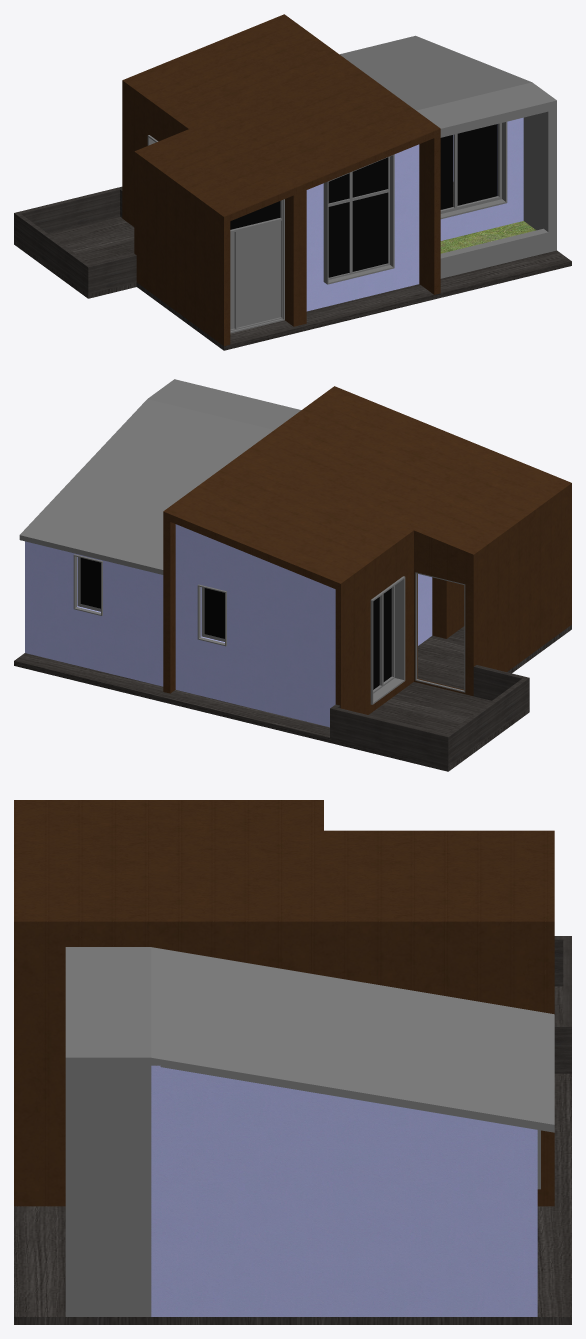
The model's file is compact-cottage.glb.
The picture shows the model from 3 angles, top to bottom: view 1: azimuth 30°, elevation 25°; view 2: azimuth 150°, elevation 25°; view 3: azimuth 270°, elevation 25°; orthographic projection. The views are drawn at different scales.
Parts seen in each view (by area): view 1: mesh-a88cee43-ae11-4195-a7ab-6f2effd062dc, mesh-a2f4b03a-da8a-4cc0-90b9-3a7af640df42, mesh-da2dd45d-b5d4-4797-8a84-05d405abdf26, mesh-e0ae70a6-3800-4f63-8826-9dc5ead1a247, mesh-a6ddecad-3b71-46ee-b986-782673806ffd, mesh-db172851-b639-4d62-9e6e-33cf965816bf, mesh-aa5ae403-ff2c-4a4a-a6f0-7d4ccd390c9e, mesh-af627654-f7d0-48ef-bea3-2fbd8e2c0987, mesh-f826d6dd-c4e0-4fa3-a675-29e19c09bd27, mesh-a27fdb92-1d0b-4dce-b2a7-f36a24c7652c, mesh-a79623d4-b6b3-498b-adfe-efa4b97c99d6, mesh-cb395510-4ca3-496f-8c8e-baf3622da2f6 (+11 smaller); view 2: mesh-a88cee43-ae11-4195-a7ab-6f2effd062dc, mesh-da2dd45d-b5d4-4797-8a84-05d405abdf26, mesh-a6ddecad-3b71-46ee-b986-782673806ffd, mesh-e0ae70a6-3800-4f63-8826-9dc5ead1a247, mesh-db172851-b639-4d62-9e6e-33cf965816bf, mesh-a2f4b03a-da8a-4cc0-90b9-3a7af640df42, mesh-bd3911de-a54d-42f4-89b2-e509a5595435, mesh-f826d6dd-c4e0-4fa3-a675-29e19c09bd27, mesh-aac72e3a-09f2-491c-9c9f-3d23d9580ecd, mesh-a6439063-9c43-4bc1-9129-d01058167b2d, mesh-aeec4f4b-550a-4e73-b655-54936df18864, mesh-a2a2351b-4932-4f9a-906f-610691e05499 (+2 smaller); view 3: mesh-a88cee43-ae11-4195-a7ab-6f2effd062dc, mesh-da2dd45d-b5d4-4797-8a84-05d405abdf26, mesh-a6ddecad-3b71-46ee-b986-782673806ffd, mesh-a2f4b03a-da8a-4cc0-90b9-3a7af640df42, mesh-e0ae70a6-3800-4f63-8826-9dc5ead1a247, mesh-db172851-b639-4d62-9e6e-33cf965816bf.
Boxes of the visible parts, x1,y1,x2,y2 form: mesh-a88cee43-ae11-4195-a7ab-6f2effd062dc: (122, 14, 440, 346); mesh-a2f4b03a-da8a-4cc0-90b9-3a7af640df42: (416, 82, 556, 278); mesh-da2dd45d-b5d4-4797-8a84-05d405abdf26: (306, 117, 523, 311); mesh-e0ae70a6-3800-4f63-8826-9dc5ead1a247: (14, 182, 571, 350); mesh-a6ddecad-3b71-46ee-b986-782673806ffd: (340, 35, 531, 110); mesh-db172851-b639-4d62-9e6e-33cf965816bf: (14, 186, 136, 294); mesh-aa5ae403-ff2c-4a4a-a6f0-7d4ccd390c9e: (237, 221, 280, 327); mesh-af627654-f7d0-48ef-bea3-2fbd8e2c0987: (457, 124, 497, 205); mesh-f826d6dd-c4e0-4fa3-a675-29e19c09bd27: (285, 190, 306, 326); mesh-a27fdb92-1d0b-4dce-b2a7-f36a24c7652c: (352, 192, 387, 271); mesh-a79623d4-b6b3-498b-adfe-efa4b97c99d6: (328, 202, 349, 277); mesh-cb395510-4ca3-496f-8c8e-baf3622da2f6: (323, 154, 394, 284); mesh-a88cee43-ae11-4195-a7ab-6f2effd062dc: (163, 386, 571, 714); mesh-da2dd45d-b5d4-4797-8a84-05d405abdf26: (25, 524, 432, 727); mesh-a6ddecad-3b71-46ee-b986-782673806ffd: (19, 399, 273, 574); mesh-e0ae70a6-3800-4f63-8826-9dc5ead1a247: (14, 625, 571, 771); mesh-db172851-b639-4d62-9e6e-33cf965816bf: (330, 665, 529, 766); mesh-a2f4b03a-da8a-4cc0-90b9-3a7af640df42: (148, 379, 301, 429); mesh-bd3911de-a54d-42f4-89b2-e509a5595435: (370, 576, 405, 704); mesh-f826d6dd-c4e0-4fa3-a675-29e19c09bd27: (432, 577, 464, 638); mesh-aac72e3a-09f2-491c-9c9f-3d23d9580ecd: (204, 588, 224, 638); mesh-a6439063-9c43-4bc1-9129-d01058167b2d: (80, 558, 100, 608); mesh-aeec4f4b-550a-4e73-b655-54936df18864: (373, 586, 394, 693); mesh-a2a2351b-4932-4f9a-906f-610691e05499: (383, 588, 391, 681); mesh-a88cee43-ae11-4195-a7ab-6f2effd062dc: (14, 800, 554, 1206); mesh-da2dd45d-b5d4-4797-8a84-05d405abdf26: (151, 1065, 537, 1316); mesh-a6ddecad-3b71-46ee-b986-782673806ffd: (151, 947, 554, 1132); mesh-a2f4b03a-da8a-4cc0-90b9-3a7af640df42: (65, 947, 151, 1316); mesh-e0ae70a6-3800-4f63-8826-9dc5ead1a247: (14, 986, 571, 1324); mesh-db172851-b639-4d62-9e6e-33cf965816bf: (554, 936, 571, 1073).
Size of the model in its own units: 9.22 by 3.76 by 6.5.
Materials: 7 (4 with a texture image).
